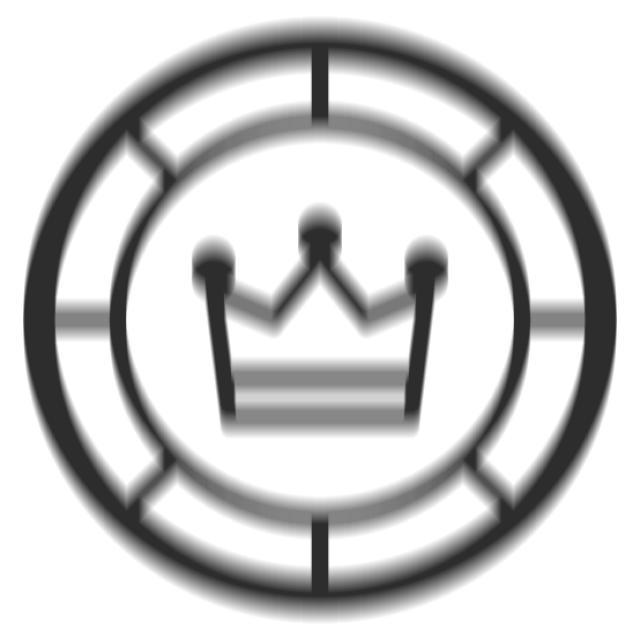coin: (16, 14, 625, 634)
